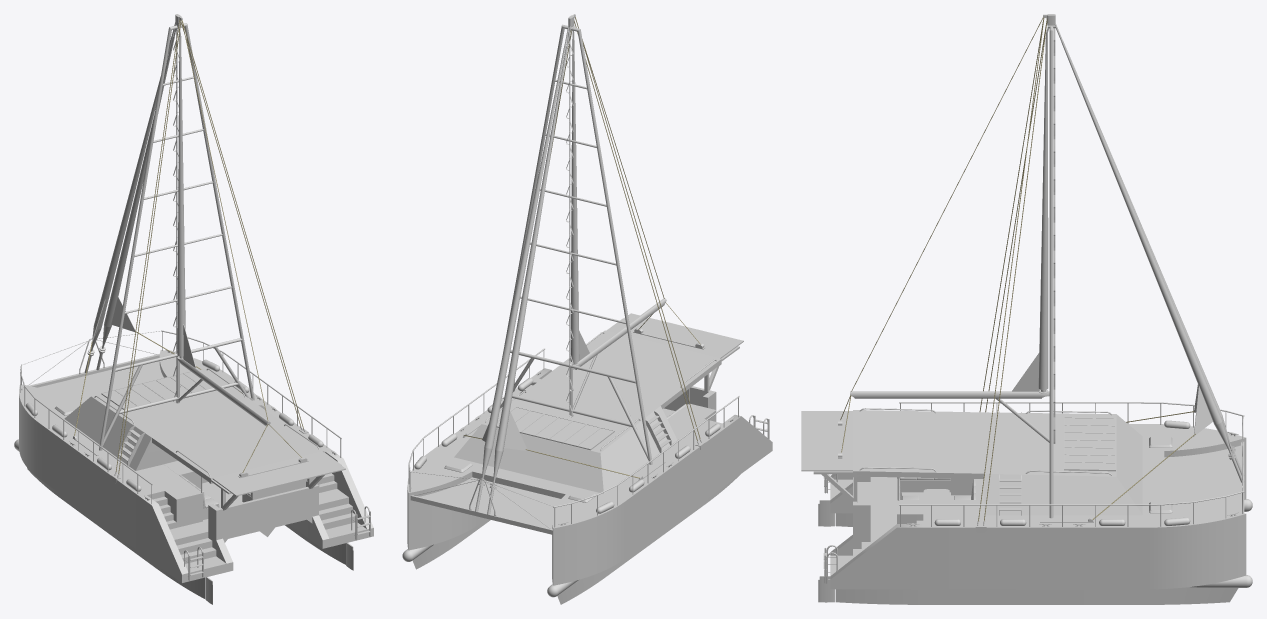
Rendered from Katamaran+7.5.fbx.
3 views of the same model, side by side, from view 1: azimuth 30°, elevation 25°; view 2: azimuth 150°, elevation 25°; view 3: azimuth 270°, elevation 25° (orthographic). The views are drawn at different scales.
Visible parts, largest first — view 1: Katamaran+7.5, Katamaran+7.5.003, Katamaran+7.5.002; view 2: Katamaran+7.5, Katamaran+7.5.003, Katamaran+7.5.002; view 3: Katamaran+7.5, Katamaran+7.5.003, Katamaran+7.5.002.
Boxes of the visible parts, box(x1,y1,x2,y2) form: Katamaran+7.5: box(14, 14, 373, 604); Katamaran+7.5.003: box(20, 330, 370, 580); Katamaran+7.5.002: box(74, 20, 303, 473); Katamaran+7.5: box(402, 14, 772, 604); Katamaran+7.5.003: box(408, 328, 769, 528); Katamaran+7.5.002: box(464, 17, 700, 478); Katamaran+7.5: box(801, 14, 1252, 604); Katamaran+7.5.003: box(823, 402, 1244, 583); Katamaran+7.5.002: box(840, 17, 1195, 521).
Size of the model in its own units: 7.52 by 18.51 by 13.79.
